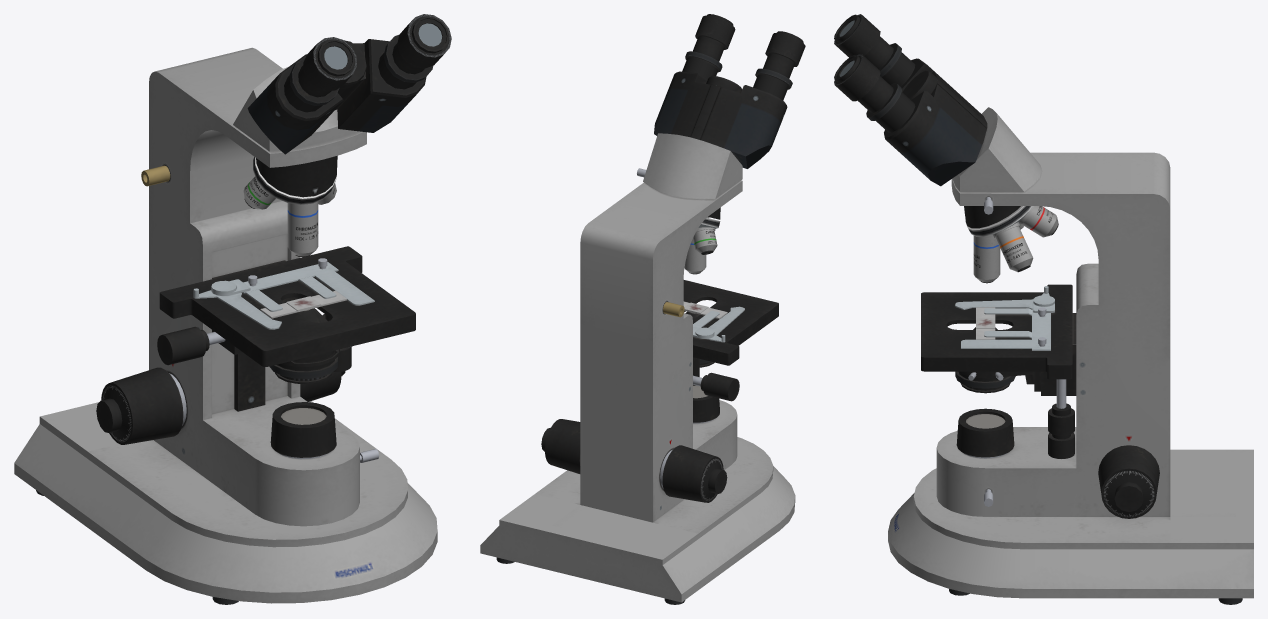
Rendered from Microscope.fbx.
3 views of the same model, side by side, from view 1: azimuth 30°, elevation 25°; view 2: azimuth 150°, elevation 25°; view 3: azimuth 270°, elevation 25° (orthographic). The views are drawn at different scales.
Parts seen in each view (by area): view 1: model_0; view 2: model_0; view 3: model_0.
Part boxes in pixels (box(x1,y1,x2,y2)): model_0: box(14, 14, 451, 604); model_0: box(480, 14, 805, 604); model_0: box(834, 14, 1253, 604).
Size of the model in its own units: 26.53 by 55.41 by 40.93.
